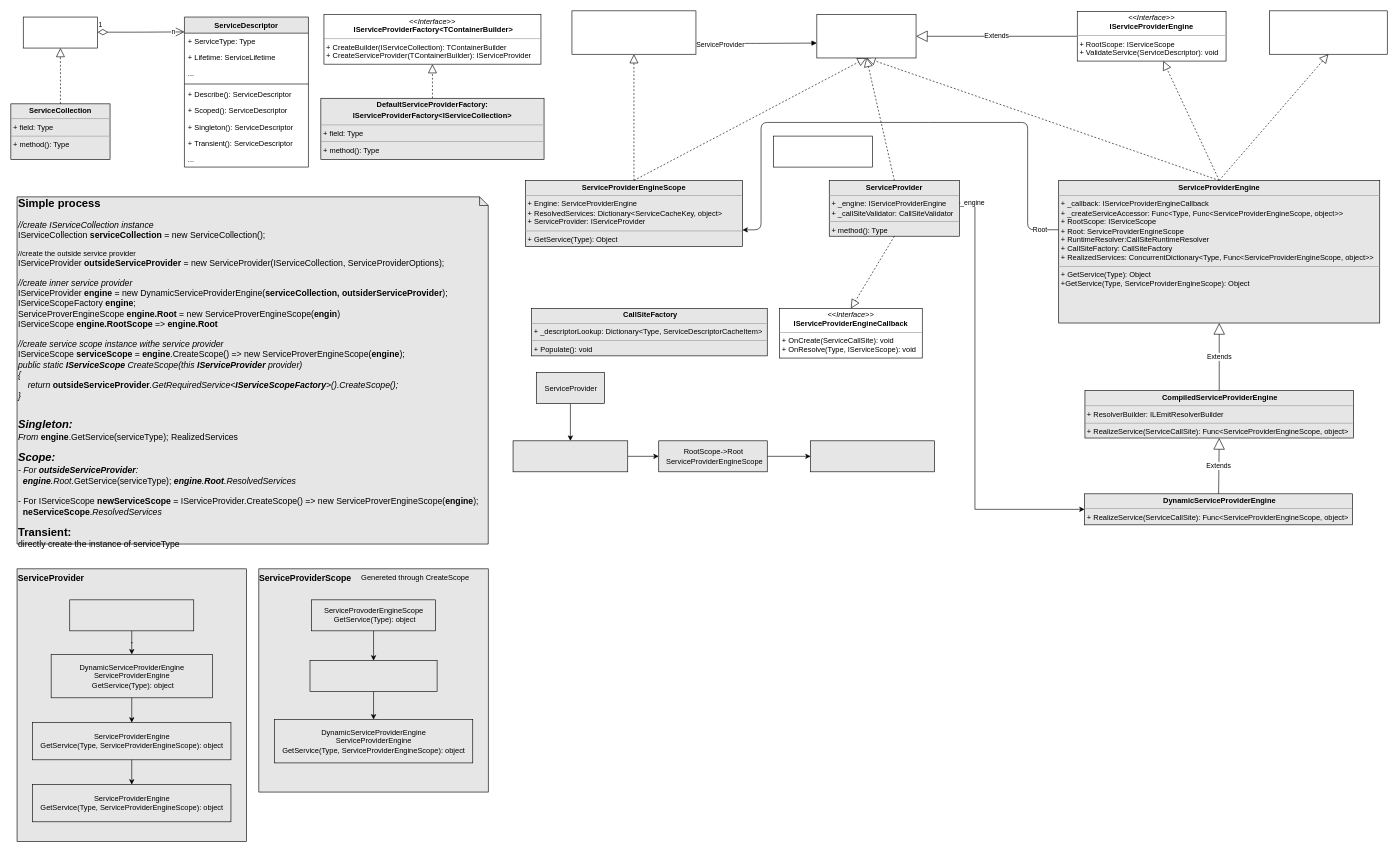
This 1398x853 diagram has some shape labels left out. The centre of each missing label's shape, as x and y in pixels:
"<<Interface>> IServiceProvider + GetService(Type): Object" goes at (866,36).
"<<Interface>> IServiceScope + ServiceProvider: IServiceProvider" goes at (633,32).
"<<Interface>> IServiceScopeFactory + CreateScope(): IServiceScope" goes at (1328,32).
"DynamicServiceProviderEngine" goes at (570,456).
"ServiceProviderEngineScope DynamicServiceProviderEngine" goes at (872,456).
"ServiceProvoder GetService(Type): object" goes at (131,615).
"ServiceProvoderEngineScope Engine.GetService(Type,this): object" goes at (373,676).
"«interface» IServiceCollection" goes at (60,32).
"«interface» ISupportRequiredService" goes at (823,151).
